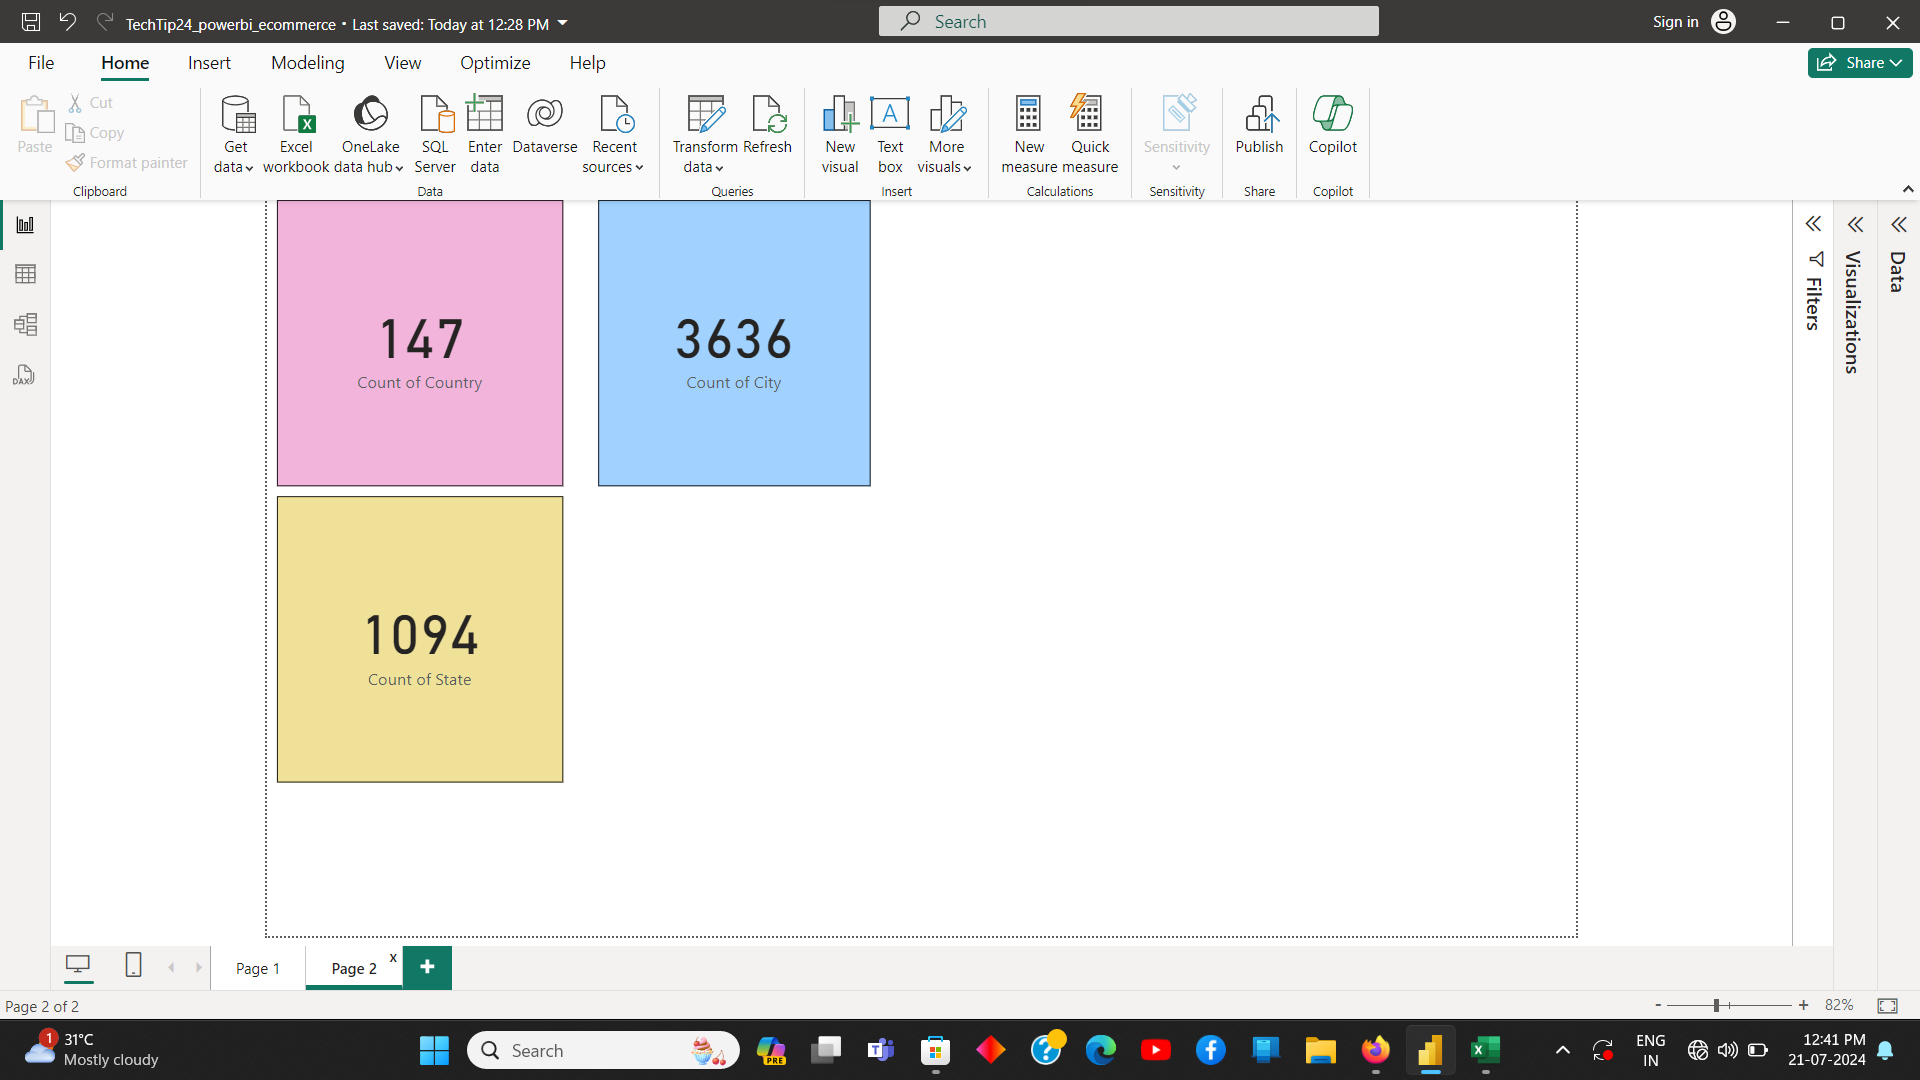

The page's visual inventory and layout, read from the dashboard file:
{"tool":"powerbi","page":{"name":"Page 2","canvas":[1280,720],"ordinal":1},"visuals":[{"type":"card","fields":{"Values":["Count(Orders.Country)"]},"box":[10,0,280,280],"z":0},{"type":"card","fields":{"Values":["Count(Orders.State)"]},"box":[10,290,280,280],"z":1},{"type":"card","fields":{"Values":["Count(Orders.City)"]},"box":[323.8,0,266.2,279.9],"z":2}]}

Visuals, with their boxes on the page's 1280x720 design canvas (x1, y1, x2, y2). These are canvas units, not pixel positions in the 1920x1080 screenshot, which may show the page scaled, cropped or inside an application window:
card - Count(Orders.Country): x1=10 y1=0 x2=290 y2=280
card - Count(Orders.State): x1=10 y1=290 x2=290 y2=570
card - Count(Orders.City): x1=324 y1=0 x2=590 y2=280
